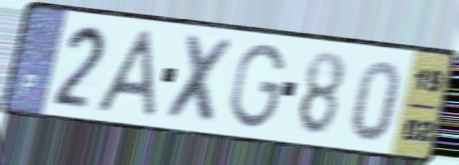0: (345, 55, 404, 145)
2: (47, 19, 111, 114)
8: (295, 49, 348, 139)
A: (91, 27, 158, 122)
G: (227, 41, 288, 131)
X: (161, 30, 239, 129)
